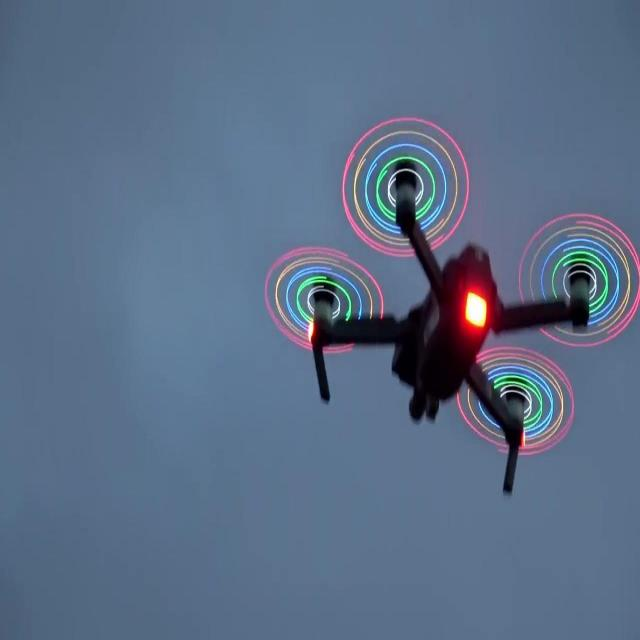UAV: (264, 116, 640, 496)
